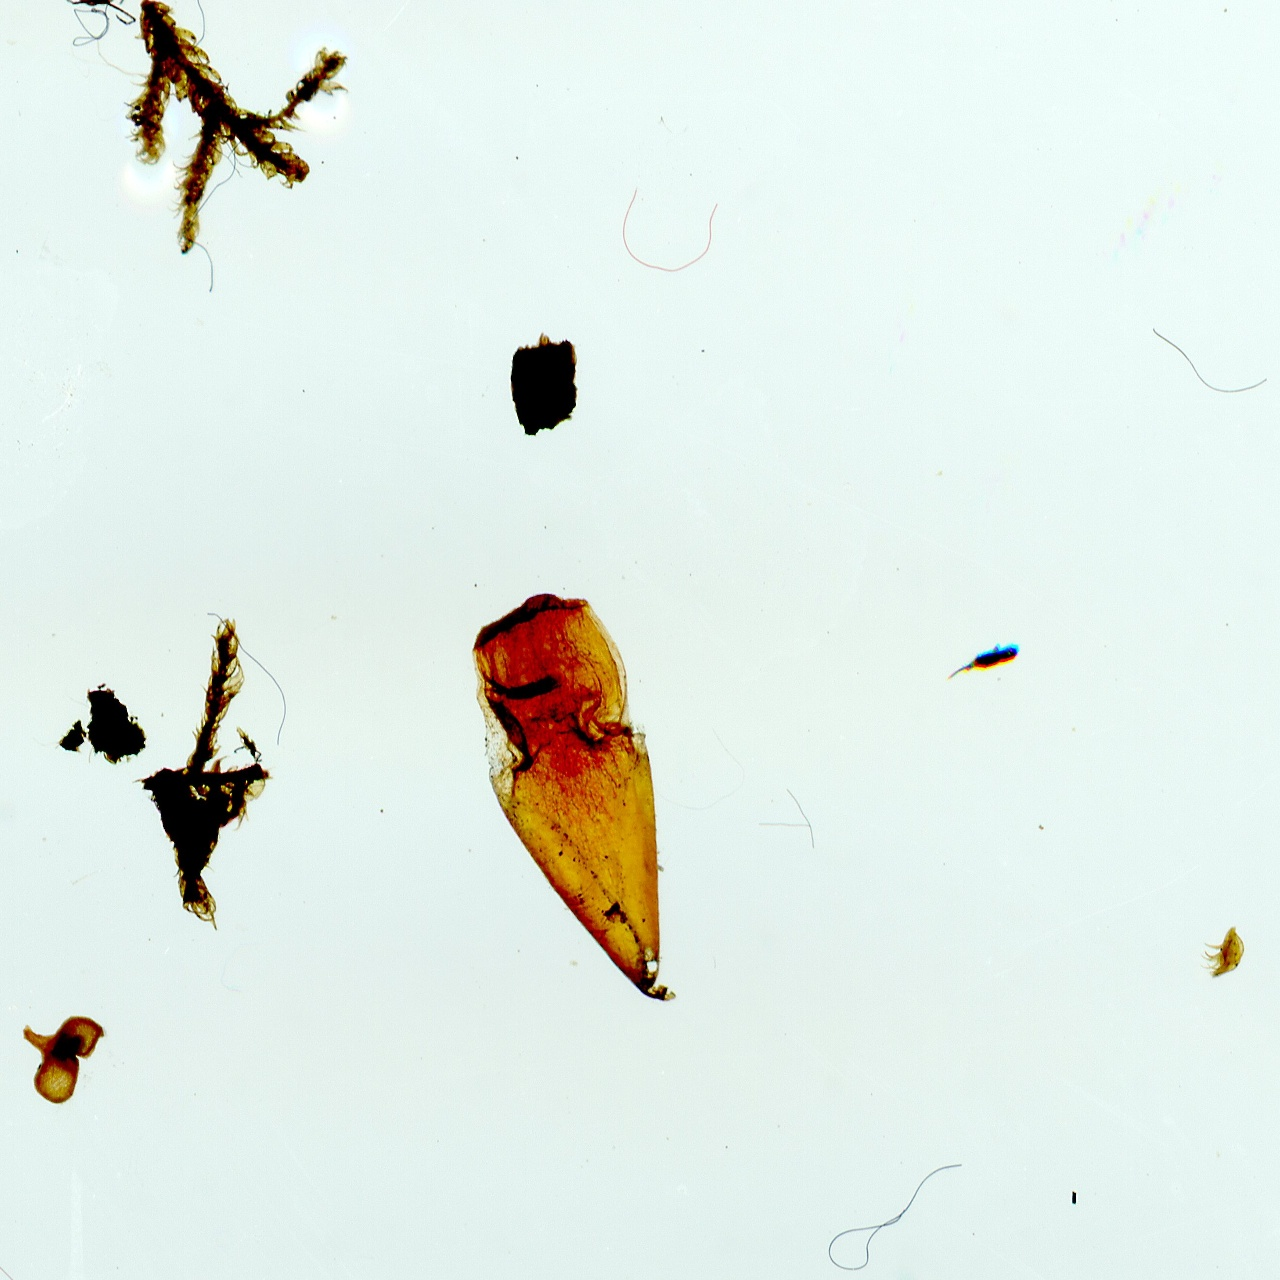arthropod: (944, 639, 1026, 684), (1200, 922, 1249, 982), (61, 0, 145, 22)
